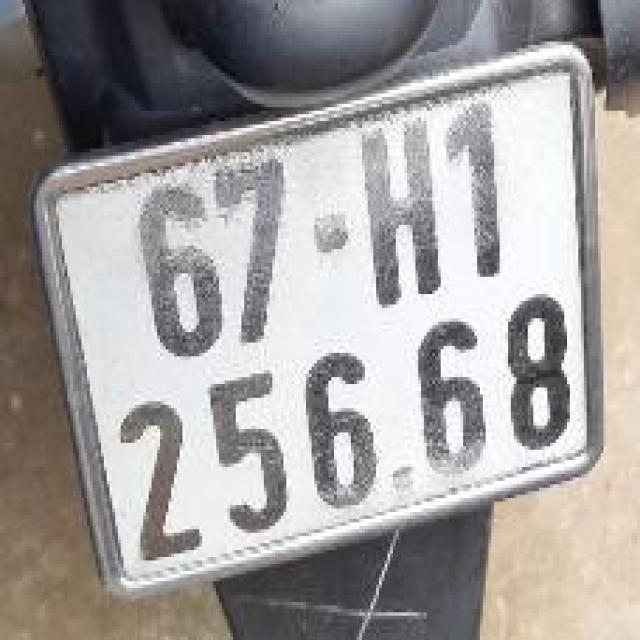1: (439, 80, 516, 291)
2: (110, 391, 209, 572)
5: (197, 353, 299, 544)
6: (132, 164, 231, 379), (289, 331, 393, 524), (405, 306, 497, 490)
7: (210, 144, 322, 351)
8: (492, 280, 578, 461)
H: (354, 102, 452, 317)
